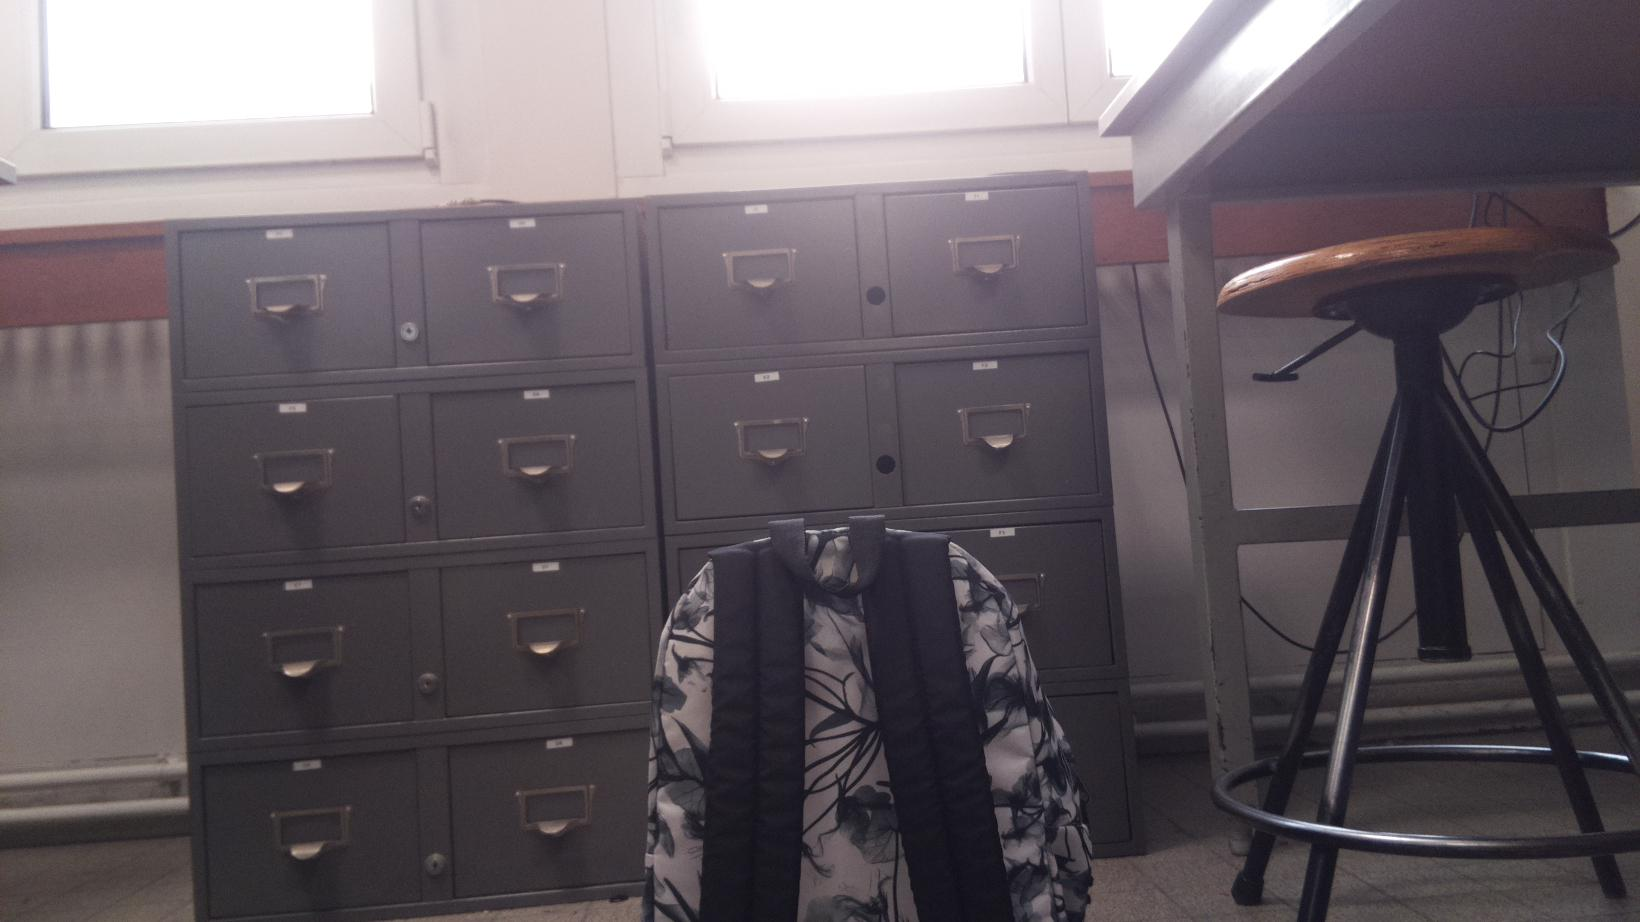big: (654, 523, 1097, 922)
